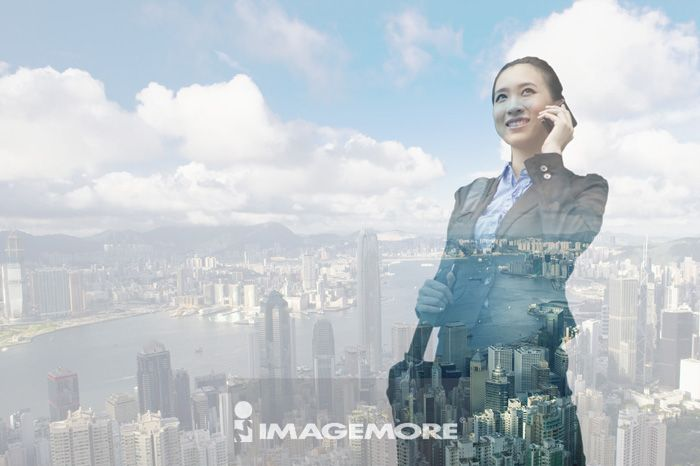phone: (544, 100, 577, 134)
talk: (494, 83, 577, 155)
